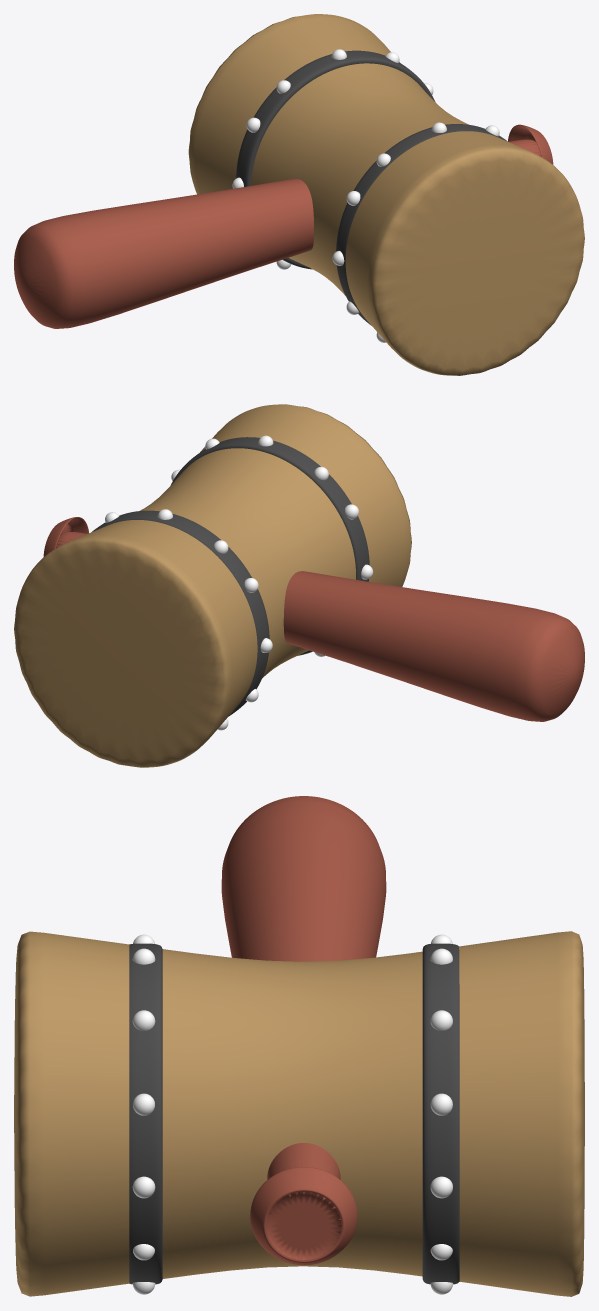
Rendered from pa_grapes_wooden_mallet.glb.
3 renders of one model, top to bottom at view 1: azimuth 30°, elevation 25°; view 2: azimuth 150°, elevation 25°; view 3: azimuth 270°, elevation 25°, orthographic. The views are drawn at different scales.
Visible parts, largest first — view 1: Circle.005_22; view 2: Circle.005_22; view 3: Circle.005_22.
Boxes of the visible parts, left/top/right/bottom form: Circle.005_22: left=14, top=14, right=584, bottom=375; Circle.005_22: left=14, top=404, right=584, bottom=767; Circle.005_22: left=14, top=796, right=584, bottom=1296.
Size of what is drawn, in the model's own units: 6.07 by 2.5 by 3.9.
